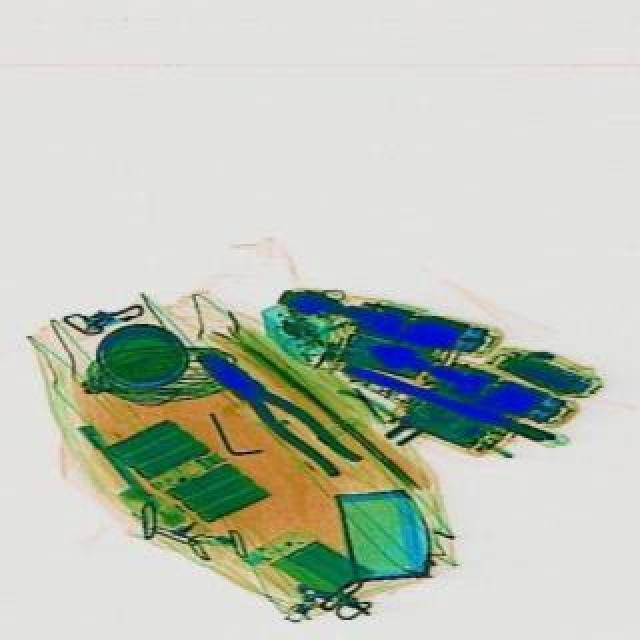wrench: (184, 340, 364, 484)
